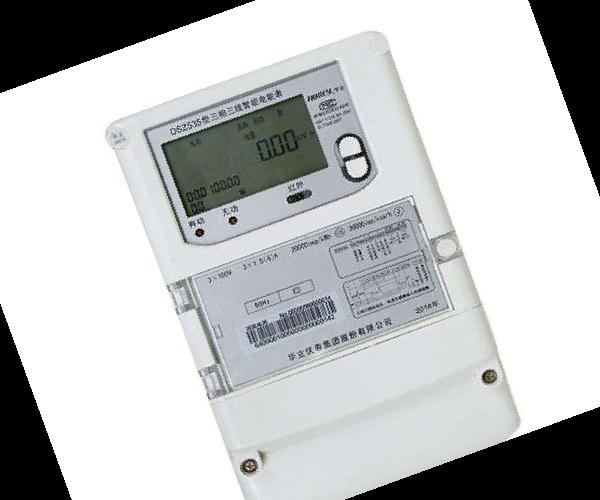digital: (108, 33, 518, 500)
